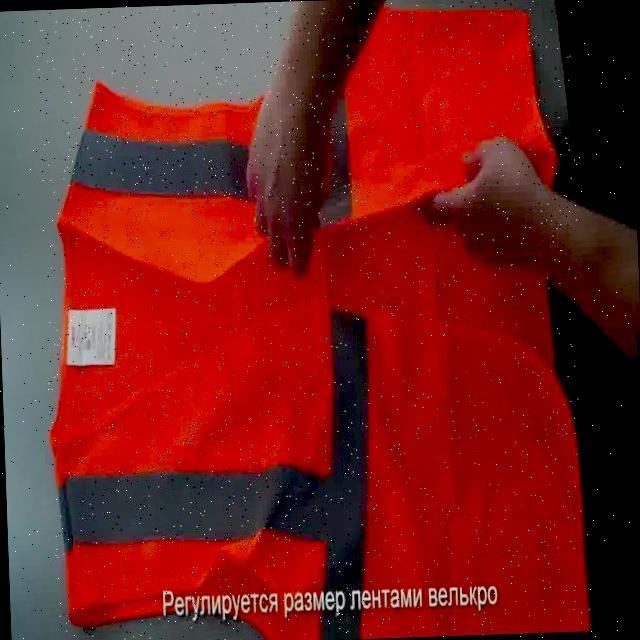vest: (35, 0, 591, 640)
